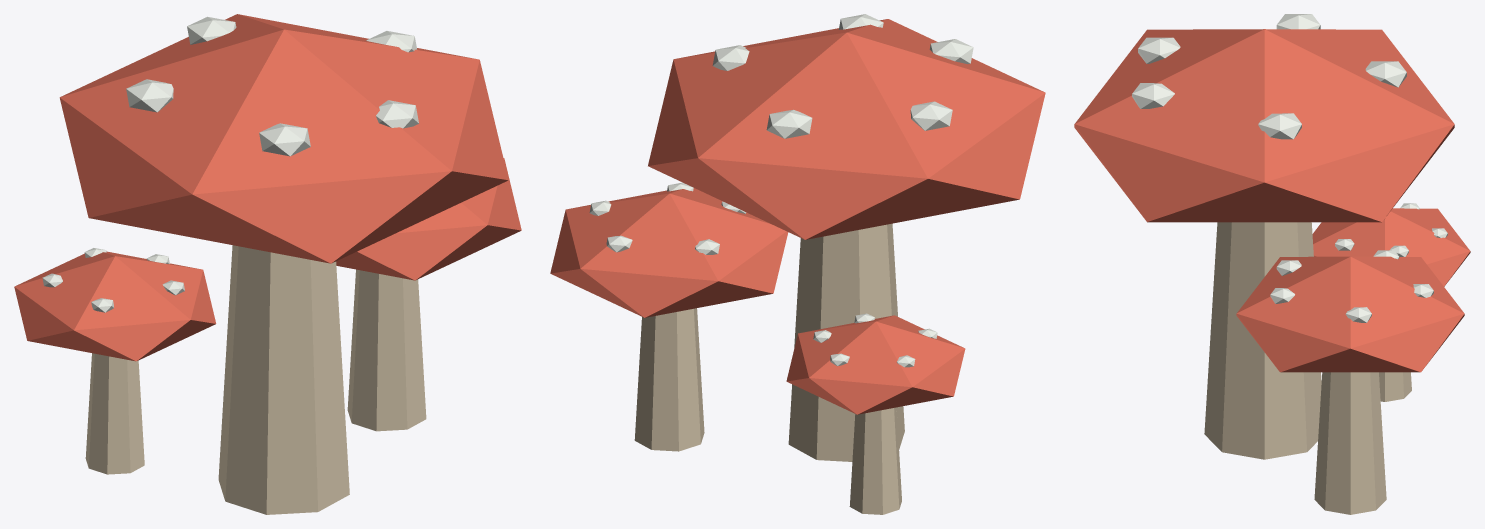
File: sm_env_forest_mushroom.glb
3 renders of one model, left to right at view 1: azimuth 30°, elevation 25°; view 2: azimuth 150°, elevation 25°; view 3: azimuth 270°, elevation 25°, orthographic. The views are drawn at different scales.
Visible parts, largest first — view 1: MushroomCap, MushroomStem, MushroomCap.002, MushroomStem.001, MushroomCap.001, MushroomStem.002, CapSpot.003, CapSpot.002, CapSpot.004, CapSpot.001, CapSpot; view 2: MushroomCap, MushroomCap.001, MushroomStem, MushroomCap.002, MushroomStem.001, MushroomStem.002, CapSpot.001, CapSpot.002, CapSpot.003, CapSpot; view 3: MushroomCap, MushroomCap.001, MushroomStem, MushroomStem.001, MushroomCap.002, CapSpot, MushroomStem.002, CapSpot.004, CapSpot.003, CapSpot.001, CapSpot.002.
Part boxes in pixels (<box>): MushroomCap: <box>59,14,508,263</box>; MushroomStem: <box>218,245,349,514</box>; MushroomCap.002: <box>14,251,216,361</box>; MushroomStem.001: <box>347,269,426,431</box>; MushroomCap.001: <box>336,158,521,280</box>; MushroomStem.002: <box>85,353,144,474</box>; CapSpot.003: <box>259,123,310,156</box>; CapSpot.002: <box>126,79,173,112</box>; CapSpot.004: <box>376,100,418,128</box>; CapSpot.001: <box>187,16,236,44</box>; CapSpot: <box>366,31,416,52</box>; MushroomCap: <box>648,19,1045,239</box>; MushroomCap.001: <box>550,188,788,317</box>; MushroomStem: <box>788,223,904,461</box>; MushroomCap.002: <box>786,315,965,414</box>; MushroomStem.001: <box>634,308,704,451</box>; MushroomStem.002: <box>849,407,901,514</box>; CapSpot.001: <box>766,109,812,138</box>; CapSpot.002: <box>910,101,952,130</box>; CapSpot.003: <box>929,39,973,64</box>; CapSpot: <box>712,45,749,70</box>; MushroomCap: <box>1074,29,1454,222</box>; MushroomCap.001: <box>1236,256,1464,372</box>; MushroomStem: <box>1204,222,1321,459</box>; MushroomStem.001: <box>1314,372,1386,514</box>; MushroomCap.002: <box>1312,208,1470,286</box>; CapSpot: <box>1258,113,1301,139</box>; MushroomStem.002: <box>1379,372,1411,401</box>; CapSpot.004: <box>1132,83,1174,108</box>; CapSpot.003: <box>1138,37,1180,63</box>; CapSpot.001: <box>1365,61,1406,87</box>; CapSpot.002: <box>1276,14,1320,29</box>.
Size of the model in its own units: 0.5521 by 0.52 by 0.4607.
